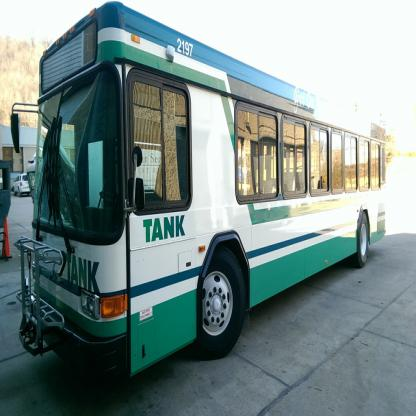Bus: (11, 1, 386, 378)
